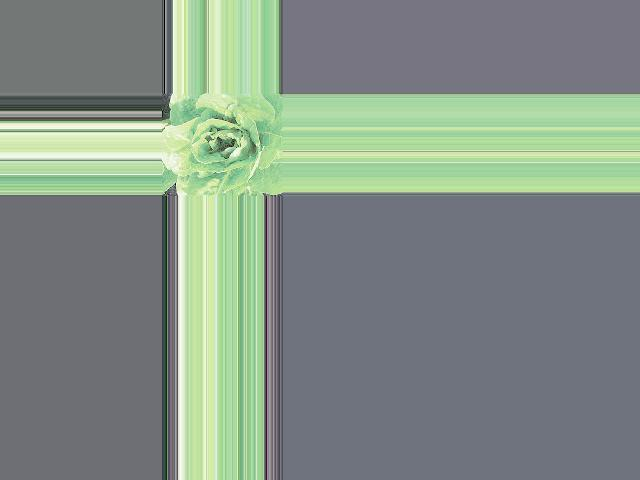lettuce: (167, 96, 281, 196)
